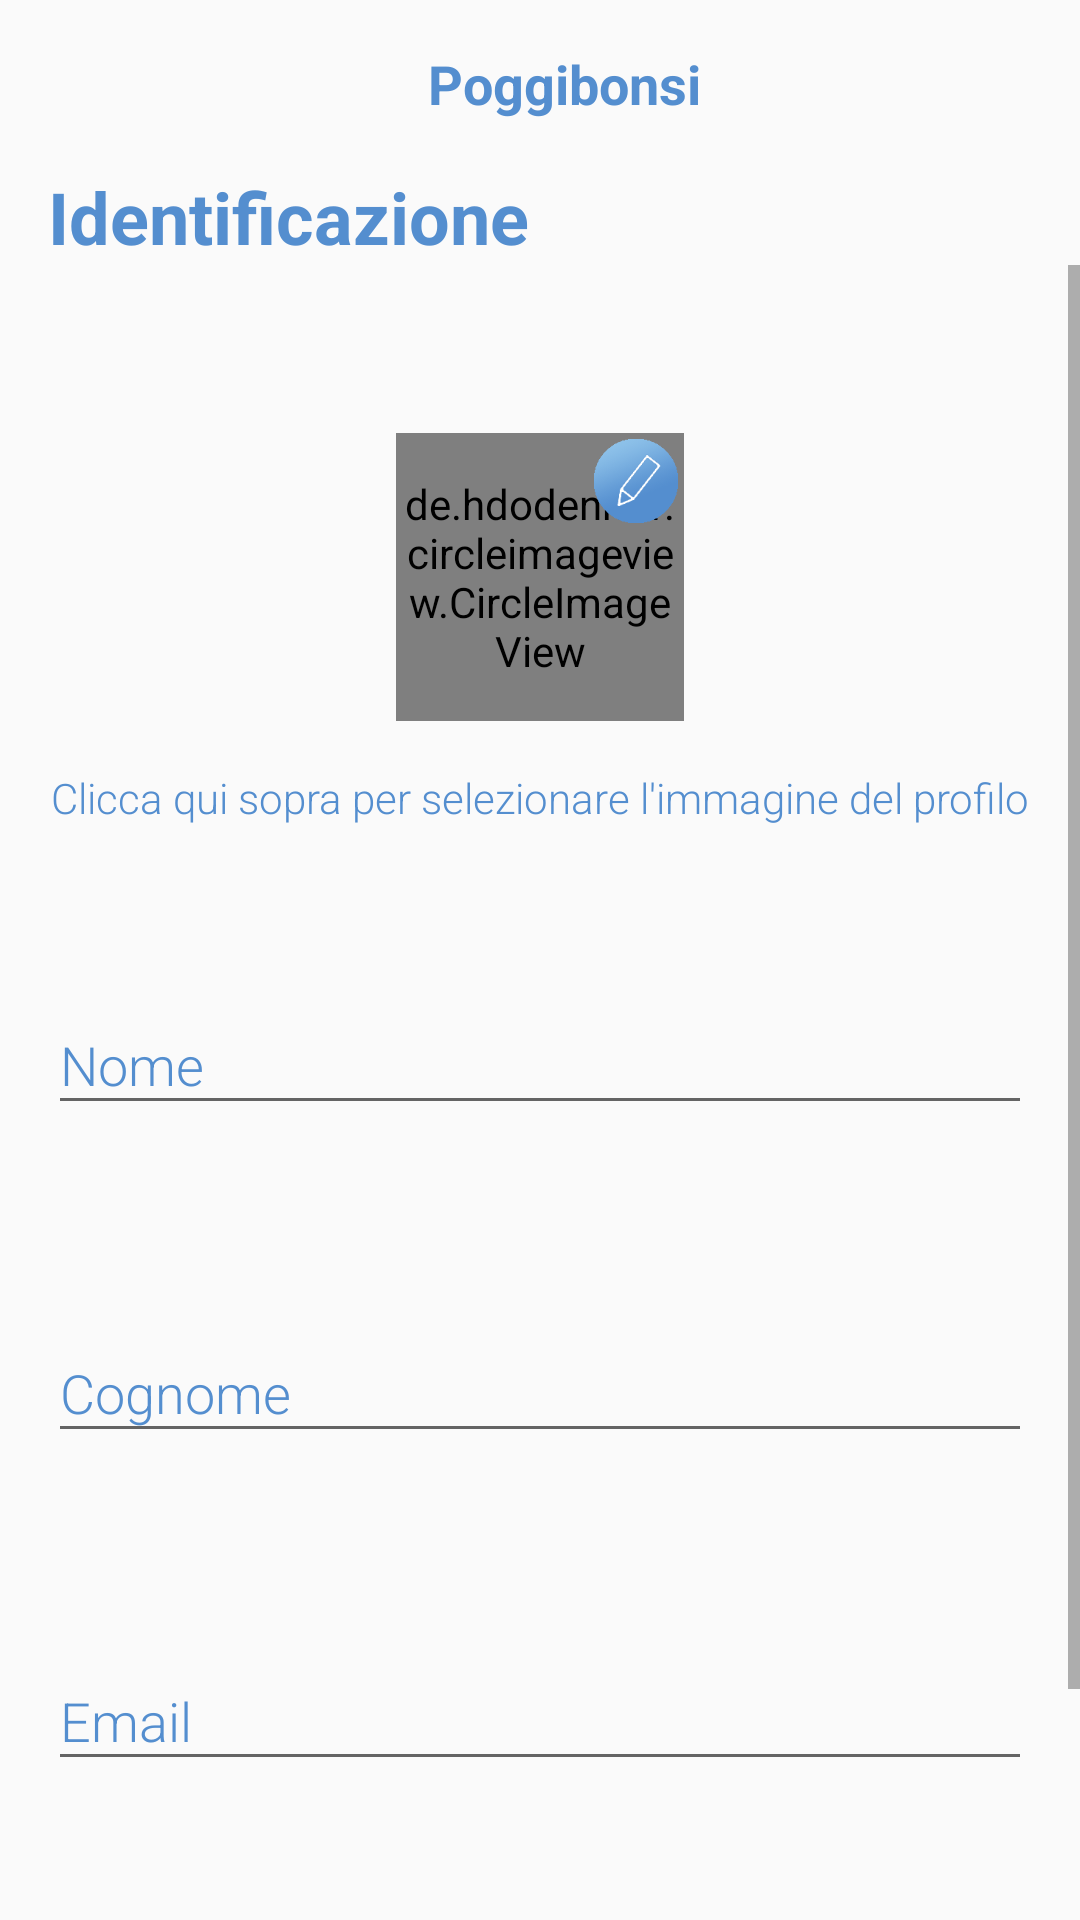

Where to tap for icons on this 1080px×1920px app screen, as [x,y]:
editsmallicon: [636,481]
